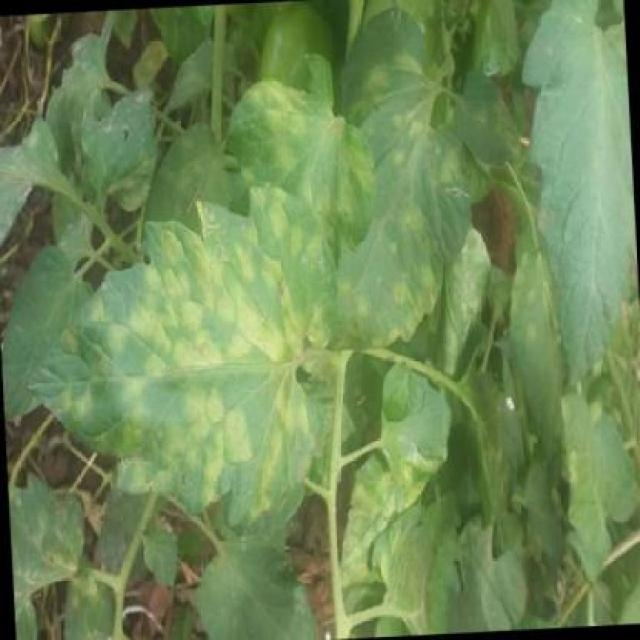Leaf Mold: (24, 178, 336, 540), (310, 26, 482, 351), (518, 3, 639, 389), (233, 45, 370, 293), (558, 391, 639, 563)
